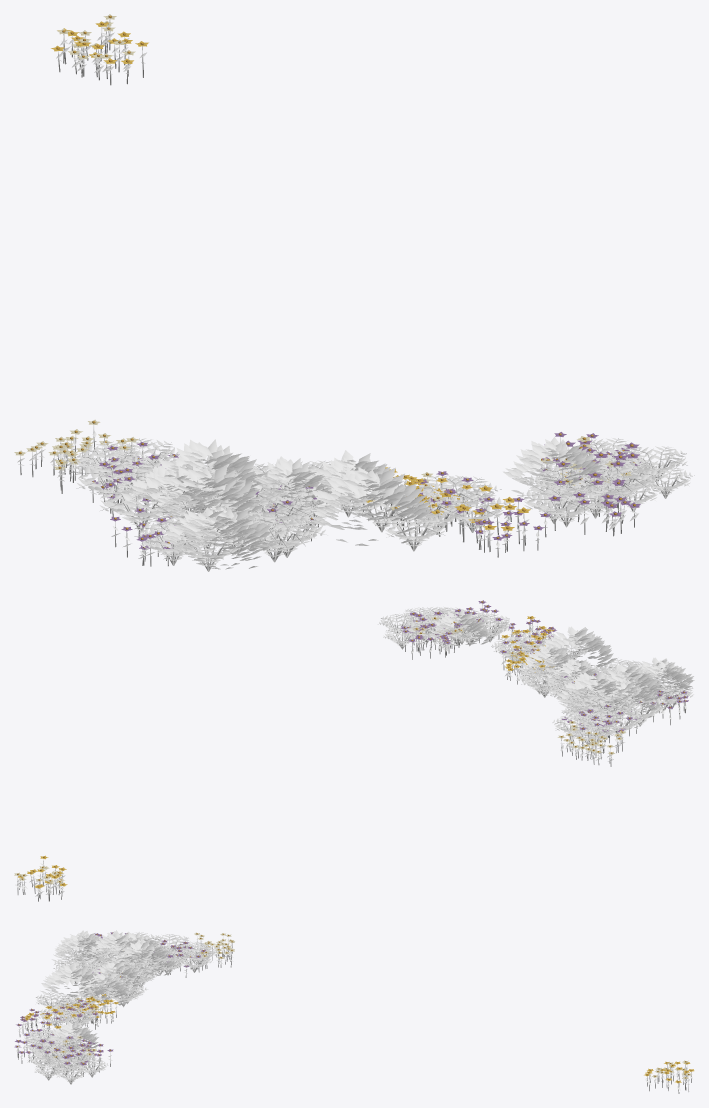
File: SM_NW_Nature_2_2_Flora.fbx
3 views of the same model, one above another, from view 1: azimuth 30°, elevation 25°; view 2: azimuth 150°, elevation 25°; view 3: azimuth 270°, elevation 25° (orthographic). The views are drawn at different scales.
Parts seen in each view (by area): view 1: SM_NW_Nature_2_2_Flora; view 2: SM_NW_Nature_2_2_Flora; view 3: SM_NW_Nature_2_2_Flora.
Boxes of the visible parts, x1,y1,x2,y2 form: SM_NW_Nature_2_2_Flora: [14, 14, 694, 571]; SM_NW_Nature_2_2_Flora: [14, 600, 694, 901]; SM_NW_Nature_2_2_Flora: [14, 930, 694, 1093].
Bounding box in the file's own units: 934 × 1916 × 134.
